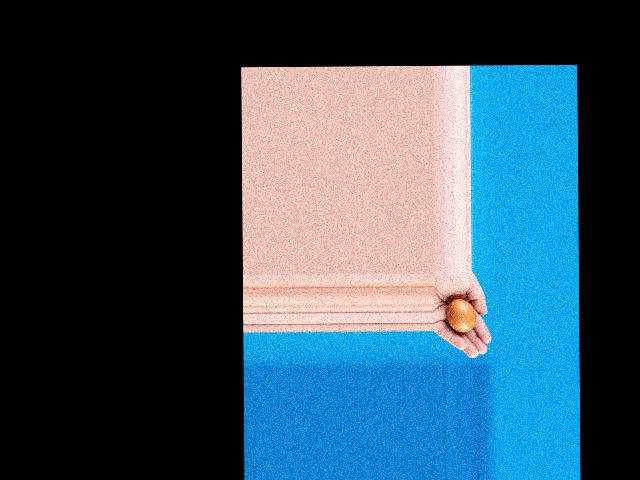egg: (447, 299, 475, 333)
